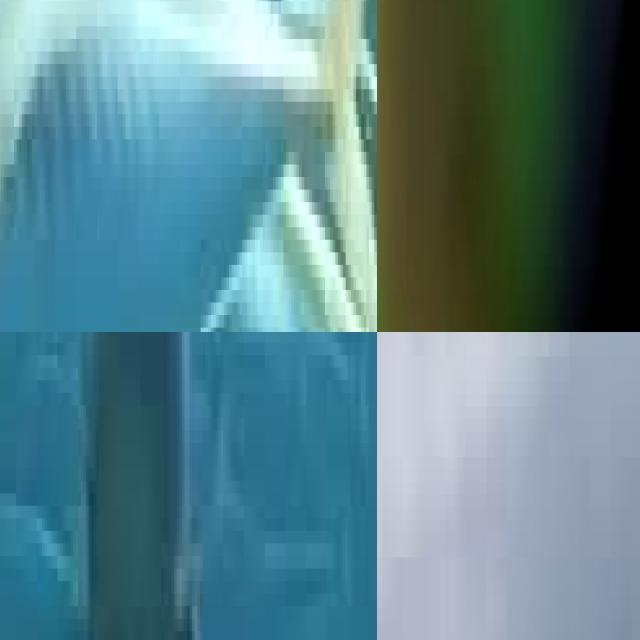fish: (0, 0, 377, 332), (502, 0, 640, 332)
